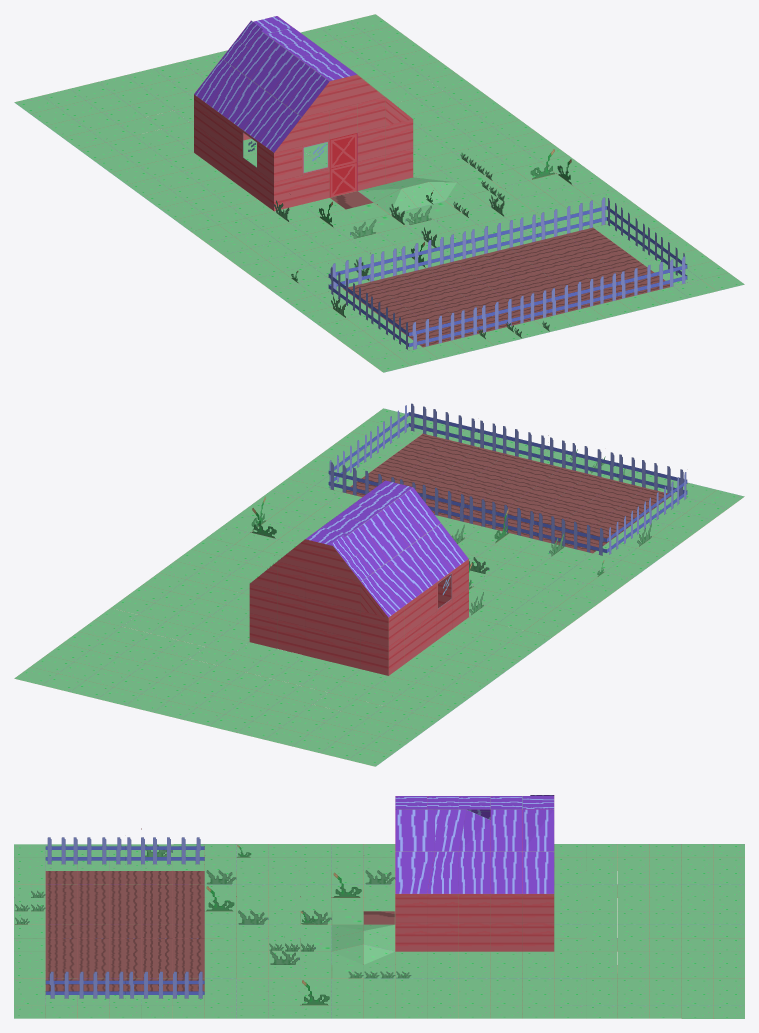
File: farm.obj
3 views of the same model, one above another, from view 1: azimuth 30°, elevation 25°; view 2: azimuth 150°, elevation 25°; view 3: azimuth 270°, elevation 25° (orthographic).
Visible parts, largest first — view 1: Default; view 2: Default; view 3: Default.
Boxes of the visible parts, box(x1,y1,x2,y2) form: Default: box(14, 14, 744, 372); Default: box(14, 403, 744, 766); Default: box(14, 795, 744, 1018).
Size of the model in its own units: 26.01 by 8.13 by 46.01.
1 material, 1 textured.
